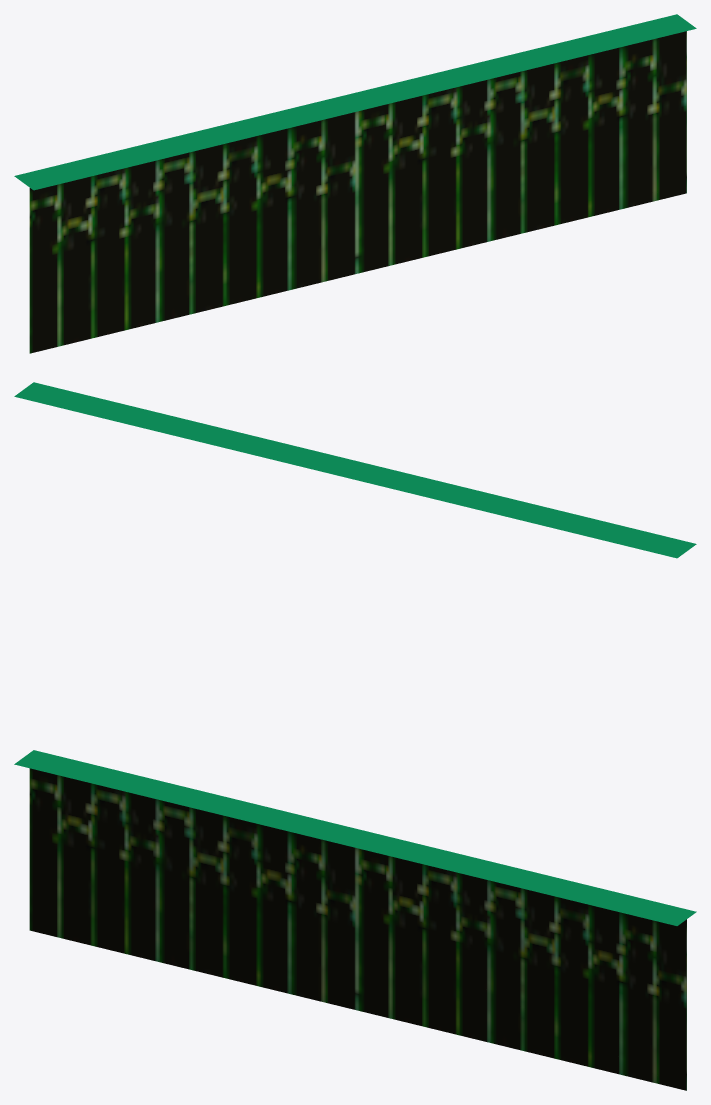
File: Geländer2_Hoch_301.glb
3 views of the same model, one above another, from view 1: azimuth 30°, elevation 25°; view 2: azimuth 150°, elevation 25°; view 3: azimuth 330°, elevation 25° (orthographic).
Visible parts, largest first — view 1: pPlaneShape223, pPlaneShape224; view 2: pPlaneShape224; view 3: pPlaneShape223, pPlaneShape224.
Boxes of the visible parts, x1=… form: pPlaneShape223: x1=29, y1=31, x2=686, y2=353; pPlaneShape224: x1=14, y1=14, x2=696, y2=190; pPlaneShape224: x1=14, y1=382, x2=696, y2=558; pPlaneShape223: x1=29, y1=768, x2=686, y2=1090; pPlaneShape224: x1=14, y1=750, x2=696, y2=925.
Size of the model in its own units: 0.4724 by 0.117 by 0.0243.
2 materials, 1 textured.
